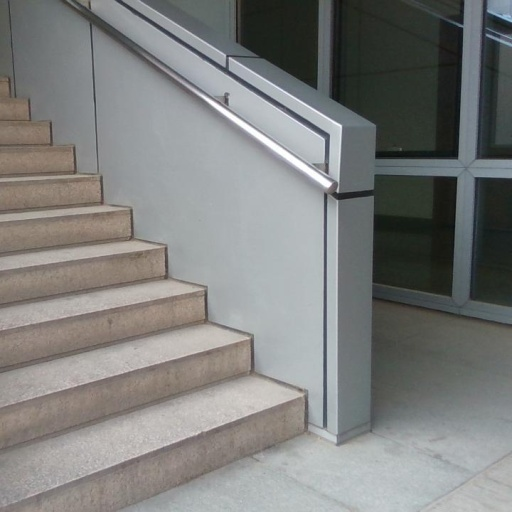Stairs: (0, 77, 304, 512)
